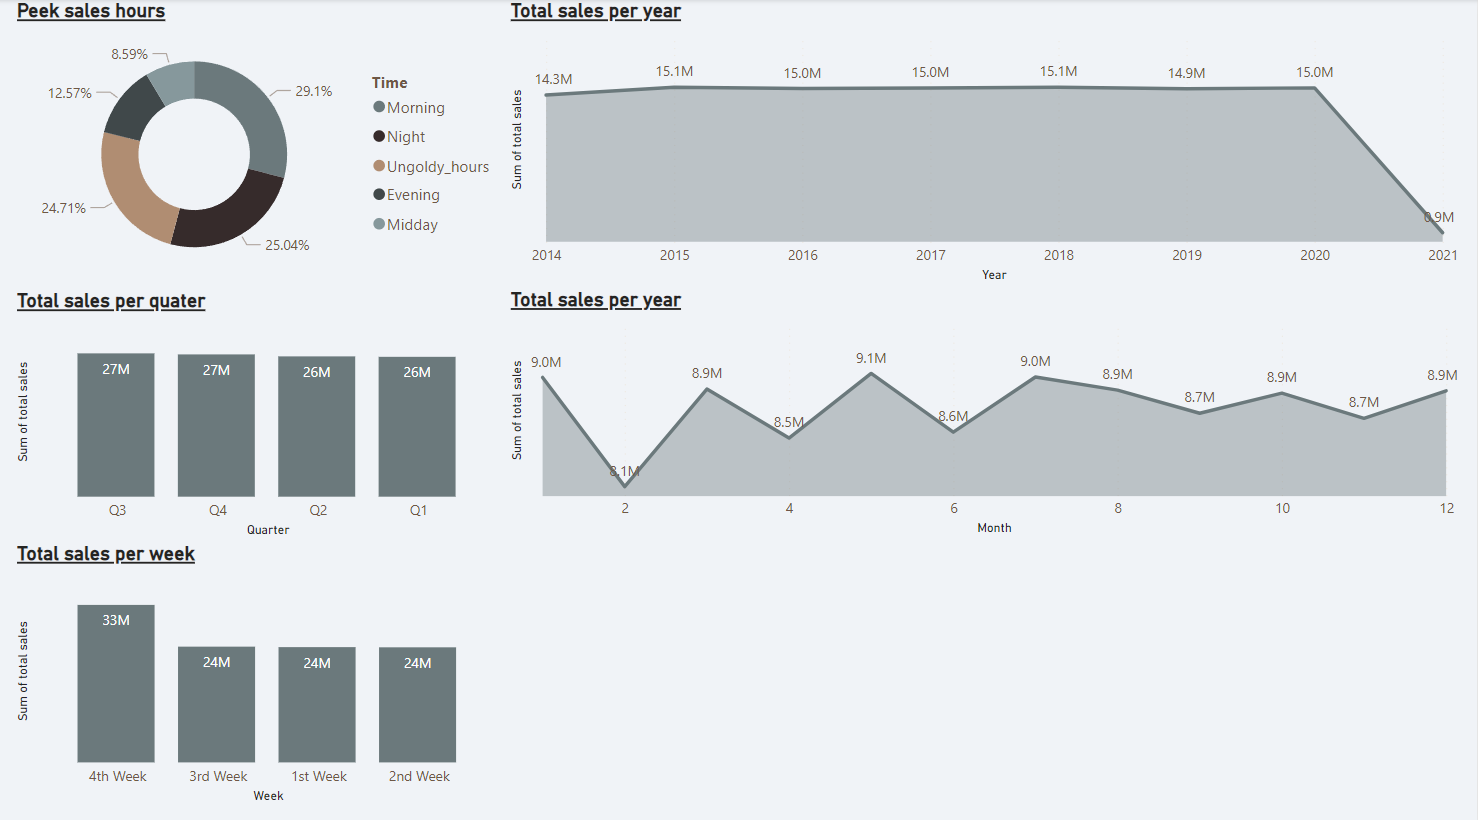

The dashboard page shown, as its layout file describes it:
{"tool":"powerbi","page":{"name":"Time","canvas":[1280,720],"ordinal":1},"visuals":[{"type":"donutChart","title":"Peek sales hours","fields":{"Category":["peek_hours_sales.time_category"],"Y":["Sum(peek_hours_sales.activity_count)"]},"box":[9.5,0,428.5,250.4],"z":0},{"type":"areaChart","title":"Total sales per year","fields":{"Category":["Sales_per_month.sales_month"],"Y":["Sum(Sales_per_month.total_sales)"]},"box":[438,250.4,830.9,219.6],"z":1000},{"type":"clusteredColumnChart","title":"Total sales per quater","fields":{"Category":["Sales_per_quarter.sales_quarter"],"Y":["Sum(Sales_per_quarter.total_sales)"]},"box":[10,251,428,220],"z":2000},{"type":"clusteredColumnChart","title":"Total sales per week","fields":{"Category":["Sales_per_week.sales_week"],"Y":["Sum(Sales_per_week.total_sales)"]},"box":[9.5,470,428.5,231.5],"z":3000},{"type":"areaChart","title":"Total sales per year","fields":{"Category":["sales_per_year.sales_year"],"Y":["Sum(sales_per_year.total_sales)"]},"box":[438,0,830.9,250.4],"z":4000}]}

Visuals, with their boxes in screenshot pixels (x1, y1, x2, y2), scaled from the page's 1280x720 canvas onto the 1478x820 screenshot:
"Peek sales hours" donutChart: l=11, t=0, r=506, b=285
"Total sales per year" areaChart: l=506, t=285, r=1465, b=535
"Total sales per quater" clusteredColumnChart: l=12, t=286, r=506, b=536
"Total sales per week" clusteredColumnChart: l=11, t=535, r=506, b=799
"Total sales per year" areaChart: l=506, t=0, r=1465, b=285
